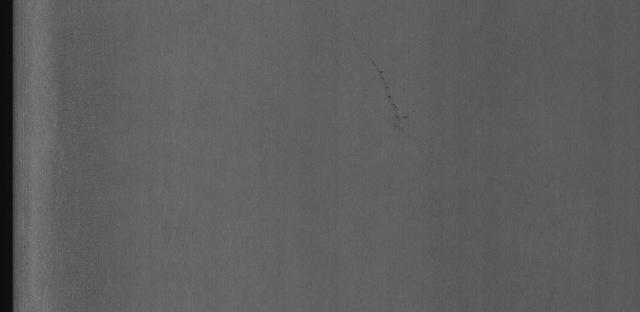water_spot: (364, 58, 411, 136)
